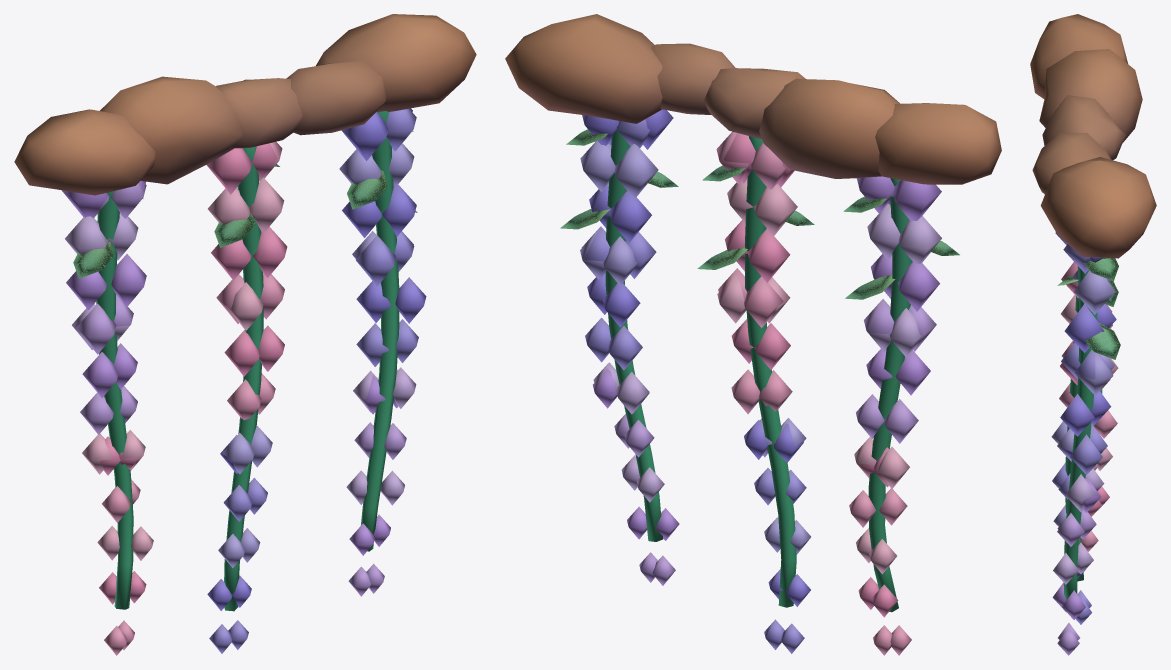
The model's file is verdant_hang_vines_wisteria.glb.
The picture shows the model from 3 angles, left to right: view 1: azimuth 30°, elevation 25°; view 2: azimuth 150°, elevation 25°; view 3: azimuth 270°, elevation 25°; orthographic projection. The views are drawn at different scales.
Parts seen in each view (by area): view 1: verdant_hang_vines_wisteria; view 2: verdant_hang_vines_wisteria; view 3: verdant_hang_vines_wisteria.
Boxes of the visible parts, box(x1,y1,x2,y2) form: verdant_hang_vines_wisteria: box(14, 14, 476, 655); verdant_hang_vines_wisteria: box(505, 14, 1001, 655); verdant_hang_vines_wisteria: box(1030, 14, 1156, 655).
Size of the model in its own units: 2.06 by 2.49 by 0.5297.
